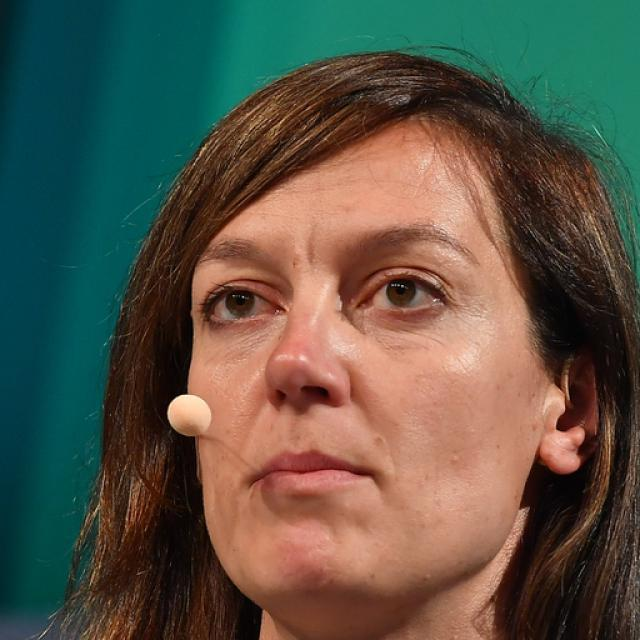anger: (181, 128, 545, 596)
